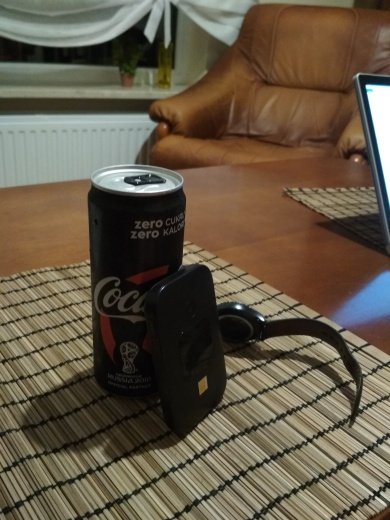colazero: (77, 159, 199, 406)
